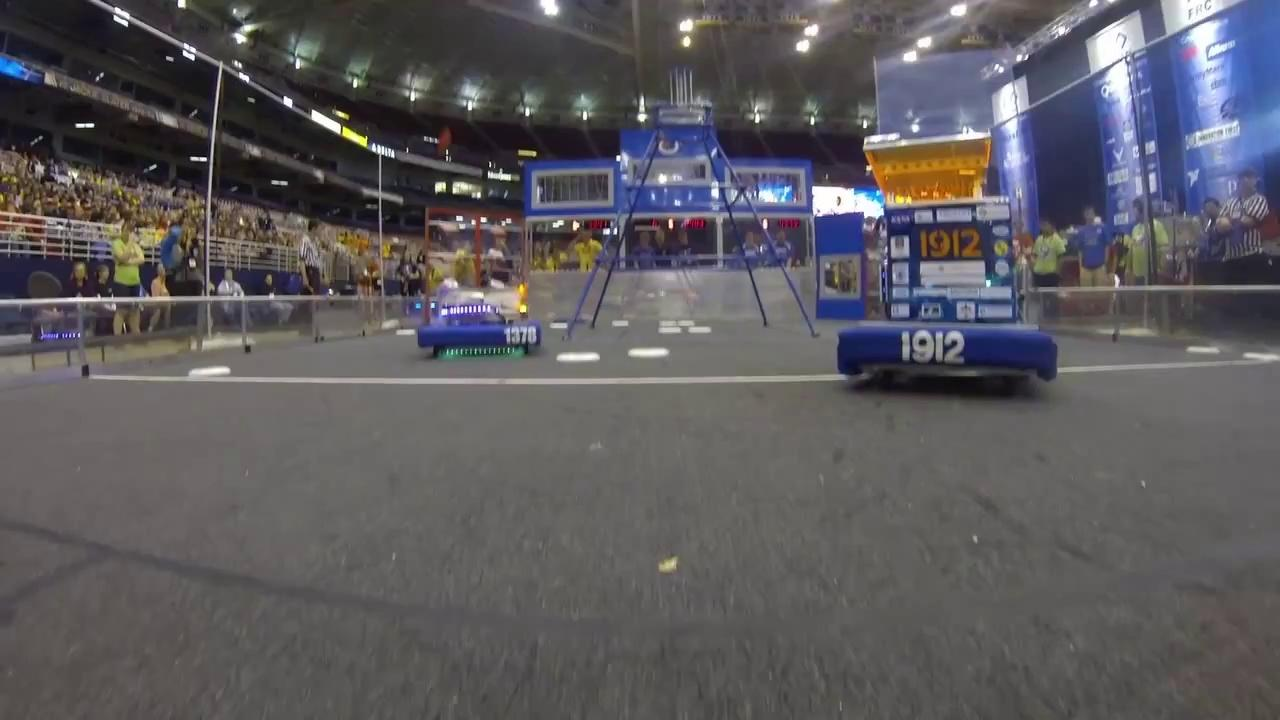robot: (833, 130, 1059, 401), (413, 278, 547, 363)
